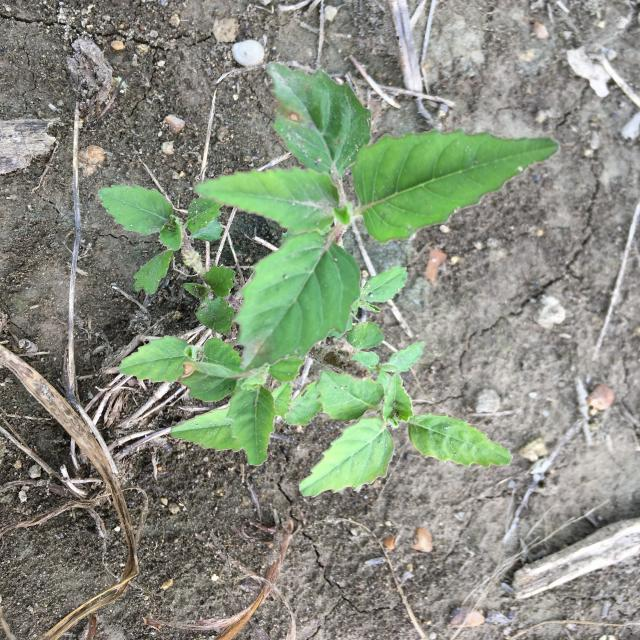PricklySida: (98, 61, 559, 498)
